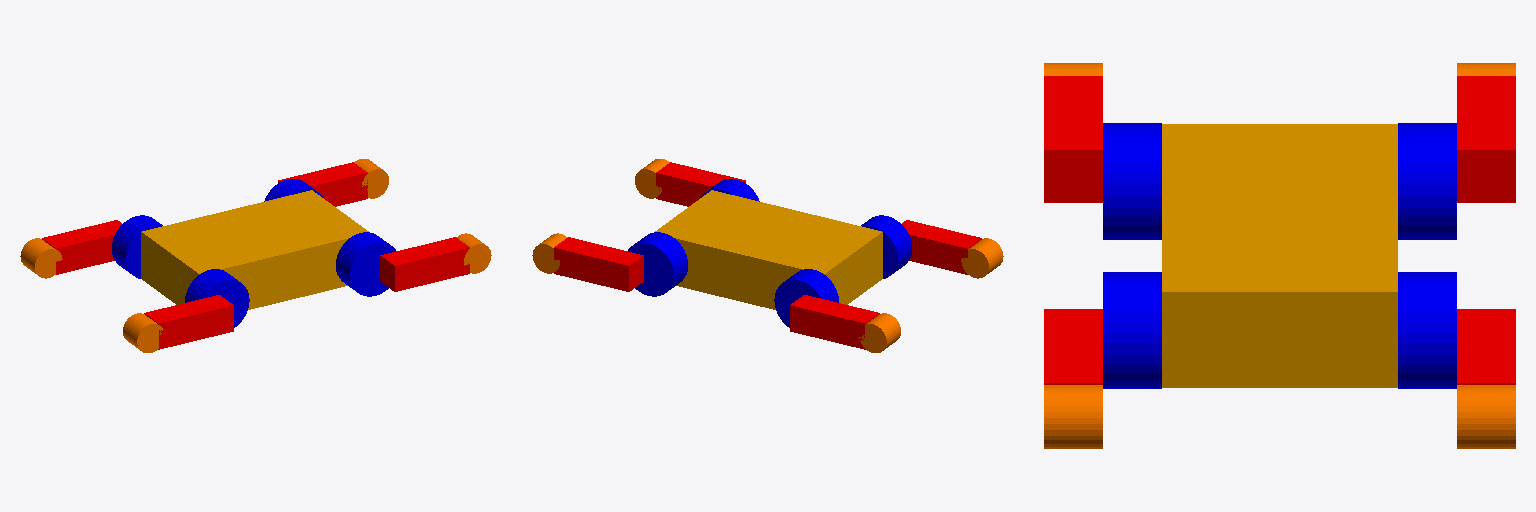
robot.urdf — wheeled_flipper:
<?xml version="1.0" ?>
<!-- =================================================================================== -->
<!-- |    This document was autogenerated by xacro from urdf/tracked.xacro               | -->
<!-- |    EDITING THIS FILE BY HAND IS NOT RECOMMENDED                                 | -->
<!-- =================================================================================== -->
<robot name="wheeled_flipper" xmlns:xacro="http://www.ros.org/wiki/xacro">
  <!-- <xacro:include filename="$(find pexod_description)/urdf/pexod_control.xacro" /> -->
  <!-- MATERIALS -->
  <material name="Blue">
    <color rgba="0 0 1 1"/>
  </material>
  <material name="Red">
    <color rgba="1 0 0 1"/>
  </material>
  <material name="Green">
    <color rgba="0 1 0 1"/>
  </material>
  <material name="Yellow">
    <color rgba="1 1 0 1"/>
  </material>
  <material name="Orange">
    <color rgba="1 0.5 0 1"/>
  </material>
  <material name="LightGrey">
    <color rgba="0.6 0.6 0.6 1.0"/>
  </material>
  <material name="White">
    <color rgba="0 0 0 0"/>
  </material>

  <!-- END OF MATERIALS -->
  <!-- XACRO MACROS FOR VISUALS AND COLLISIONS -->
  <!-- END OF XACRO MACROS -->

  <!-- TORSO -->
  <link name="base_link">
    <visual>
      <origin rpy="0 0 0" xyz="0 0 0"/>
      <geometry>
        <box size="0.68 0.405 0.18"/>
      </geometry>
      <material name="Black"/>
    </visual>
    <collision>
      <origin rpy="0 0 0" xyz="0 0 0"/>
      <geometry>
        <box size="0.68 0.405 0.18"/>
      </geometry>
    </collision>
    <inertial>
      <!-- CENTER OF MASS -->
      <origin rpy="0 0 0" xyz="0 0 -0.08"/>
      <mass value="10"/>
      <inertia ixx="0.24553" ixy="0" ixz="0" iyy="0.6185" iyz="0" izz="0.783"/>
    </inertial>
  </link>

  <!-- LINKS/JOINTS -->

  <!-- WHEEELS-->

  <!-- Left Front Wheel -->

  <joint name="base_to_LF_wheel" type="continuous">
        <parent link="base_link"/>
        <child link="LF_wheel"/> 
        <axis xyz="0 1 0"/>
        <origin xyz="-0.3 -0.2525 0"/>
    </joint>

    <link name="LF_wheel">
        <visual> 
            <geometry> 
                <cylinder length="0.1" radius="0.1"/>
            </geometry>
            <origin rpy="1.57075 1.57075 0"/>
            <material name="Blue"/>
        </visual>
        <collision> 
             <geometry> 
                <cylinder length="0.1" radius="0.1"/>
            </geometry>
            <origin rpy="1.57075 1.57075 0"/>
        </collision> 
        <inertial> 
            <origin rpy="1.57075 1.57075 0"/>
            <mass value="1"/>
            <inertia ixx="0.010833" ixy="0" ixz="0" iyy="0.010833" iyz="0" izz="0.02"/>
        </inertial> 
    </link> 
    
  <!-- Right Front Wheel -->
  
  <joint name="base_to_RF_wheel" type="continuous">
        <parent link="base_link"/>
        <child link="RF_wheel"/> 
        <axis xyz="0 1 0"/>
        <origin xyz="-0.3 0.2525 0"/>
    </joint>

    <link name="RF_wheel">
        <visual> 
            <geometry> 
                <cylinder length="0.1" radius="0.1"/>
            </geometry>
            <origin rpy="1.57075 1.57075 0"/>
            <material name="Blue"/>
        </visual>
        <collision> 
             <geometry> 
                <cylinder length="0.1" radius="0.1"/>
            </geometry>
            <origin rpy="1.57075 1.57075 0"/>
        </collision> 
        <inertial> 
            <origin rpy="1.57075 1.57075 0"/>
            <mass value="1"/>
            <inertia ixx="0.010833" ixy="0" ixz="0" iyy="0.010833" iyz="0" izz="0.02"/>
        </inertial> 
    </link> 
    

  <!-- Left Back Wheel -->

     <joint name="base_to_LB_wheel" type="continuous">
        <parent link="base_link"/>
        <child link="LB_wheel"/> 
        <axis xyz="0 1 0"/>
        <origin xyz="0.3 -0.2525 0"/>
    </joint>
    
    <link name="LB_wheel">
        <visual> 
            <geometry> 
                <cylinder length="0.1" radius="0.1"/>
            </geometry>
            <origin rpy="1.57075 1.57075 0"/>
            <material name="Blue"/>
        </visual>
        <collision> 
             <geometry> 
                <cylinder length="0.1" radius="0.1"/>
            </geometry>
            <origin rpy="1.57075 1.57075 0"/>
        </collision> 
        <inertial> 
            <origin rpy="1.57075 1.57075 0"/>
            <mass value="1"/>
            <inertia ixx="0.010833" ixy="0" ixz="0" iyy="0.010833" iyz="0" izz="0.02"/>
        </inertial> 
    </link> 

    <!-- Right Back Wheel -->

    <joint name="base_to_RB_wheel" type="continuous">
        <parent link="base_link"/>
        <child link="RB_wheel"/> 
        <axis xyz="0 1 0"/>
        <origin xyz="0.3 0.2525 0"/>
    </joint>
        
    <link name="RB_wheel">
        <visual> 
            <geometry> 
                <cylinder length="0.1" radius="0.1"/>
            </geometry>
            <origin rpy="1.57075 1.57075 0"/>
            <material name="Blue"/>
        </visual>
        <collision> 
             <geometry> 
                <cylinder length="0.1" radius="0.1"/>
            </geometry>
            <origin rpy="1.57075 1.57075 0"/>
        </collision> 
        <inertial> 
            <origin rpy="1.57075 1.57075 0"/>
            <mass value="1"/>
            <inertia ixx="0.010833" ixy="0" ixz="0" iyy="0.010833" iyz="0" izz="0.02"/>
        </inertial> 
    </link> 
    
  <!-- FLIPPERS -->

  <!-- FRONT LEFT FLIPPER-->

  <joint name="base_to_LF_flipper" type="revolute">
    <parent link="base_link"/>
    <child link="LF_flipper_main"/>
    <limit effort="30.0" lower="-1.57079632679" upper="1.57079632679" velocity="7.0"/>
    <origin rpy="0 0 0" xyz="0.35 -0.3525 0"/>
    <axis xyz="0 1 0"/>
    <dynamics damping="0.0"/>
  </joint>
  
    <link name="LF_flipper_main">
    <visual>
      <origin rpy="0 0 0" xyz="0.12 0. 0."/> 
      <geometry>
        <box size="0.3 0.1 0.1"/>
      </geometry>
      <material name="Red"/>
    </visual>

    <collision>
      <origin rpy="0 0 0" xyz="0.12 0. 0."/> 
      <geometry>
        <box size="0.3 0.1 0.1"/>
      </geometry>
    </collision>000

    <inertial>
      <!-- CENTER OF MASS -->
      <origin rpy="0 0 0" xyz="0.0 0.0 0.0"/>
      <mass value=".5"/>
      <inertia ixx="0.00020833" ixy="0" ixz="0" iyy="0.001770833" iyz="0" izz="0.001770833"/>
    </inertial>
  </link>

  <joint name="LF_flipper_to_end" type="fixed">
    <parent link="LF_flipper_main"/>
    <child link="LF_flipper_end"/>
    <origin rpy="0 0 0" xyz="0.3 0 0"/>
    <axis xyz="0 1 0"/>
  </joint>

  <link name="LF_flipper_end">
    <visual>
      <origin rpy="1.5708 0 0" xyz="0 0. 0."/> 
      <geometry>
        <cylinder length="0.1" radius="0.055"/>
      </geometry>
      <material name="Orange"/>
    </visual>

    <collision>
      <origin rpy="1.5708 0 0" xyz="0 0. 0."/> 
      <geometry>
        <cylinder length="0.1" radius="0.055"/>
      </geometry>
    </collision>

    <inertial>
      <origin rpy="0 0 0" xyz="0.0 0.0 0.0"/>
      <mass value=".1"/>
      <inertia ixx="0.0000497" ixy="0" ixz="0" iyy="0.0000497" iyz="0" izz="0.0000578"/>
    </inertial>
  </link>

  <!-- BACK LEFT FLIPPER-->

  <joint name="base_to_LB_flipper" type="revolute">
    <parent link="base_link"/>
    <child link="LB_flipper_main"/>
    <limit effort="30.0" lower="-1.57079632679" upper="1.57079632679" velocity="7.0"/>
    <origin rpy="0 0 0" xyz="-0.35 -0.3525 0"/>
    <axis xyz="0 1 0"/>
    <dynamics damping="0.0"/>
  </joint>

  <link name="LB_flipper_main">
    <visual>
      <origin rpy="0 0 0" xyz="-0.12 0. 0."/> 
      <geometry>
        <box size="0.3 0.1 0.1"/>
      </geometry>
      <material name="Red"/>
    </visual>

    <collision>
      <origin rpy="0 0 0" xyz="-0.12 0. 0."/> 
      <geometry>
        <box size="0.3 0.1 0.1"/>
      </geometry>
    </collision>

    <inertial>
      <!-- CENTER OF MASS -->
      <origin rpy="0 0 0" xyz="0.0 0.0 0.0"/>
      <mass value=".5"/>
      <inertia ixx="0.00020833" ixy="0" ixz="0" iyy="0.001770833" iyz="0" izz="0.001770833"/>
    </inertial>
  </link>


  <joint name="LB_flipper_to_end" type="fixed">
    <parent link="LB_flipper_main"/>
    <child link="LB_flipper_end"/>
    <origin rpy="0 0 0" xyz="-0.3 0 0"/>
    <axis xyz="0 1 0"/>
  </joint>

  <link name="LB_flipper_end">
    <visual>
      <origin rpy="1.5708 0 0" xyz="0 0. 0."/> 
      <geometry>
        <cylinder length="0.1" radius="0.055"/>
      </geometry>
      <material name="Orange"/>
    </visual>

    <collision>
      <origin rpy="1.5708 0 0" xyz="0 0. 0."/> 
      <geometry>
        <cylinder length="0.1" radius="0.055"/>
      </geometry>
    </collision>

    <inertial>
      <origin rpy="0 0 0" xyz="0.0 0.0 0.0"/>
      <mass value=".1"/>
      <inertia ixx="0.0000497" ixy="0" ixz="0" iyy="0.0000497" iyz="0" izz="0.0000578"/>
    </inertial>
  </link>

    <!-- FRONT RIGHT FLIPPER-->

    <joint name="base_to_RF_flipper" type="revolute">
        <parent link="base_link"/>
        <child link="RF_flipper_main"/>
        <limit effort="30.0" lower="-1.57079632679" upper="1.57079632679" velocity="7.0"/>
        <origin rpy="0 0 0" xyz="0.35 0.3525 0"/>
        <axis xyz="0 1 0"/>
        <dynamics damping="0.0"/>
    </joint>

   <link name="RF_flipper_main">
    <visual>
      <origin rpy="0 0 0" xyz="0.12 0. 0."/> 
      <geometry>
        <box size="0.3 0.1 0.1"/>
      </geometry>
      <material name="Red"/>
    </visual>

    <collision>
      <origin rpy="0 0 0" xyz="0.12 0. 0."/> 
      <geometry>
        <box size="0.3 0.1 0.1"/>
      </geometry>
    </collision>

    <inertial>
      <!-- CENTER OF MASS -->
      <origin rpy="0 0 0" xyz="0.0 0.0 0.0"/>
      <mass value=".5"/>
      <inertia ixx="0.00020833" ixy="0" ixz="0" iyy="0.001770833" iyz="0" izz="0.001770833"/>
    </inertial>
  </link>

  <joint name="RF_flipper_to_end" type="fixed">
    <parent link="RF_flipper_main"/>
    <child link="RF_flipper_end"/>
    <origin rpy="0 0 0" xyz="0.3 0 0"/>
    <axis xyz="0 1 0"/>
  </joint>

  <link name="RF_flipper_end">
    <visual>
      <origin rpy="1.5708 0 0" xyz="0 0. 0."/> 
      <geometry>
        <cylinder length="0.1" radius="0.055"/>
      </geometry>
      <material name="Orange"/>
    </visual>

    <collision>
      <origin rpy="1.5708 0 0" xyz="0 0. 0."/> 
      <geometry>
        <cylinder length="0.1" radius="0.055"/>
      </geometry>
    </collision>

    <inertial>
      <origin rpy="0 0 0" xyz="0.0 0.0 0.0"/>
      <mass value=".1"/>
      <inertia ixx="0.0000497" ixy="0" ixz="0" iyy="0.0000497" iyz="0" izz="0.0000578"/>
    </inertial>
  </link>

    <!-- BACK RIGHT FLIPPER-->

  <joint name="base_to_RB_flipper" type="revolute">
    <parent link="base_link"/>
    <child link="RB_flipper_main"/>
    <limit effort="30.0" lower="-1.57079632679" upper="1.57079632679" velocity="7.0"/>
    <origin rpy="0 0.0 0" xyz="-0.35 0.3525 -0"/>
    <axis xyz="0 1 0"/>   <!-- Colors --> 
    <material name="grey"> 
        <color rgba="0.91 0.925 0.945 1"/>
    </material>
    <dynamics damping="0.0"/>
  </joint>

  <link name="RB_flipper_main">
    <visual>
      <origin rpy="0 0 0" xyz="-0.12 0. 0."/> 
      <geometry>
        <box size="0.3 0.1 0.1"/>
      </geometry>
      <material name="Red"/>
    </visual>

    <collision>
      <origin rpy="0 0 0" xyz="-0.12 0. 0."/> 
      <geometry>
        <box size="0.3 0.1 0.1"/>
      </geometry>
    </collision>

    <inertial>
      <!-- CENTER OF MASS -->
      <origin rpy="0 0 0" xyz="0.0 0.0 0.0"/>
      <mass value=".5"/>
      <inertia ixx="0.00020833" ixy="0" ixz="0" iyy="0.001770833" iyz="0" izz="0.001770833"/>
    </inertial>
  </link>

  <joint name="RB_flipper_to_end" type="fixed">
    <parent link="RB_flipper_main"/>
    <child link="RB_flipper_end"/>
    <origin rpy="0 0 0" xyz="-0.3 0 0"/>
    <axis xyz="0 1 0"/>
  </joint>

  <link name="RB_flipper_end">
    <visual>
      <origin rpy="1.5708 0 0" xyz="0 0. 0."/> 
      <geometry>
        <cylinder length="0.1" radius="0.055"/>
      </geometry>
      <material name="Orange"/>
    </visual>

    <collision>
      <origin rpy="1.5708 0 0" xyz="0 0. 0."/> 
      <geometry>
        <cylinder length="0.1" radius="0.055"/>
      </geometry>
    </collision>

    <inertial>
      <origin rpy="0 0 0" xyz="0.0 0.0 0.0"/>
      <mass value=".1"/>
      <inertia ixx="0.0000497" ixy="0" ixz="0" iyy="0.0000497" iyz="0" izz="0.0000578"/>
    </inertial>
  </link>

  <!-- PAYLOAD-->
  

 
</robot>

--- What the picture shows (computed from the rendered views, not written in the file) ---
3 views of the same robot in one strip: view 1: azimuth 30°, elevation 25°; view 2: azimuth 150°, elevation 25°; view 3: azimuth 270°, elevation 25° (orthographic).
Robot: wheeled_flipper — 13 links, 12 joints (4 revolute, 4 continuous, 4 fixed); root link base_link; default pose: all joints at 0.
Visible links, largest first — view 1: base_link, LF_flipper_main, LB_flipper_main, LB_wheel, RB_flipper_main, RF_flipper_main, LF_wheel, RF_wheel, RB_flipper_end, LB_flipper_end, LF_flipper_end, RF_flipper_end (+1 smaller); view 2: base_link, RF_flipper_main, RB_flipper_main, RB_wheel, LB_flipper_main, LF_flipper_main, RF_wheel, LF_wheel, LB_flipper_end, RB_flipper_end, RF_flipper_end, LF_flipper_end (+1 smaller); view 3: base_link, LB_flipper_main, RB_flipper_main, LF_wheel, RF_wheel, LB_wheel, RB_wheel, LF_flipper_main, RF_flipper_main, LF_flipper_end, RF_flipper_end, LB_flipper_end (+1 smaller).
Link boxes in pixels (x1=…): base_link: x1=141, y1=190, x2=368, y2=309; LF_flipper_main: x1=380, y1=237, x2=469, y2=291; LB_flipper_main: x1=144, y1=295, x2=233, y2=349; LB_wheel: x1=336, y1=232, x2=395, y2=296; RB_flipper_main: x1=42, y1=220, x2=121, y2=274; RF_flipper_main: x1=278, y1=162, x2=367, y2=206; LF_wheel: x1=185, y1=269, x2=249, y2=327; RF_wheel: x1=112, y1=215, x2=162, y2=278; RB_flipper_end: x1=20, y1=238, x2=62, y2=278; LB_flipper_end: x1=123, y1=313, x2=162, y2=352; LF_flipper_end: x1=456, y1=233, x2=491, y2=273; RF_flipper_end: x1=354, y1=159, x2=388, y2=198; base_link: x1=655, y1=190, x2=882, y2=309; RF_flipper_main: x1=554, y1=237, x2=643, y2=291; RB_flipper_main: x1=790, y1=295, x2=879, y2=349; RB_wheel: x1=628, y1=232, x2=687, y2=296; LB_flipper_main: x1=902, y1=220, x2=981, y2=274; LF_flipper_main: x1=656, y1=162, x2=745, y2=206; RF_wheel: x1=774, y1=269, x2=838, y2=327; LF_wheel: x1=861, y1=215, x2=911, y2=278; LB_flipper_end: x1=961, y1=238, x2=1003, y2=278; RB_flipper_end: x1=859, y1=313, x2=900, y2=352; RF_flipper_end: x1=532, y1=233, x2=567, y2=273; LF_flipper_end: x1=635, y1=159, x2=669, y2=198; base_link: x1=1162, y1=124, x2=1397, y2=387; LB_flipper_main: x1=1044, y1=76, x2=1102, y2=202; RB_flipper_main: x1=1457, y1=76, x2=1515, y2=202; LF_wheel: x1=1103, y1=123, x2=1161, y2=239; RF_wheel: x1=1398, y1=123, x2=1456, y2=239; LB_wheel: x1=1103, y1=272, x2=1161, y2=388; RB_wheel: x1=1398, y1=272, x2=1456, y2=388; LF_flipper_main: x1=1044, y1=309, x2=1102, y2=384; RF_flipper_main: x1=1457, y1=309, x2=1515, y2=384; LF_flipper_end: x1=1044, y1=385, x2=1102, y2=448; RF_flipper_end: x1=1457, y1=385, x2=1515, y2=448; LB_flipper_end: x1=1044, y1=63, x2=1102, y2=75.
Bounding box of the posed robot: 1.41 × 0.805 × 0.2 m (x, y, z).
Geometry: primitives only (box / cylinder / sphere), no mesh files.
